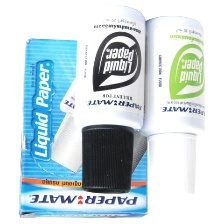book: (15, 36, 151, 220)
correction_fluid: (74, 2, 147, 196), (133, 13, 207, 200)
